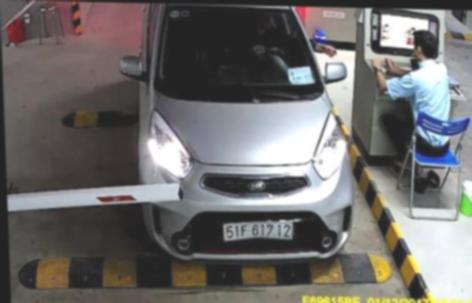License_Plate: (222, 216, 295, 244)
